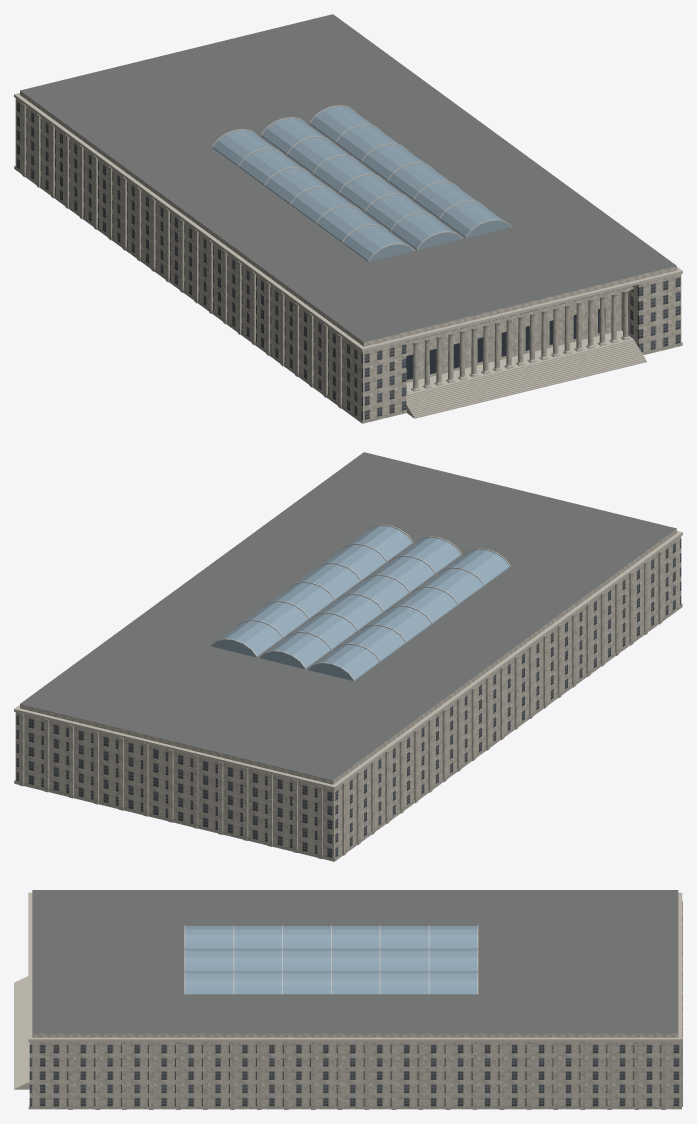
File: moynihan_train_hall.glb
3 views of the same model, one above another, from view 1: azimuth 30°, elevation 25°; view 2: azimuth 150°, elevation 25°; view 3: azimuth 270°, elevation 25° (orthographic). The views are drawn at different scales.
Visible parts, largest first — view 1: moynihan_train_hall; view 2: moynihan_train_hall; view 3: moynihan_train_hall.
Boxes of the visible parts, bbox=[...] form: moynihan_train_hall: bbox=[14, 14, 682, 423]; moynihan_train_hall: bbox=[14, 452, 682, 861]; moynihan_train_hall: bbox=[14, 890, 682, 1109].
Size of the model in its own units: 119 by 32.3 by 228.
3 materials, 3 textured.
